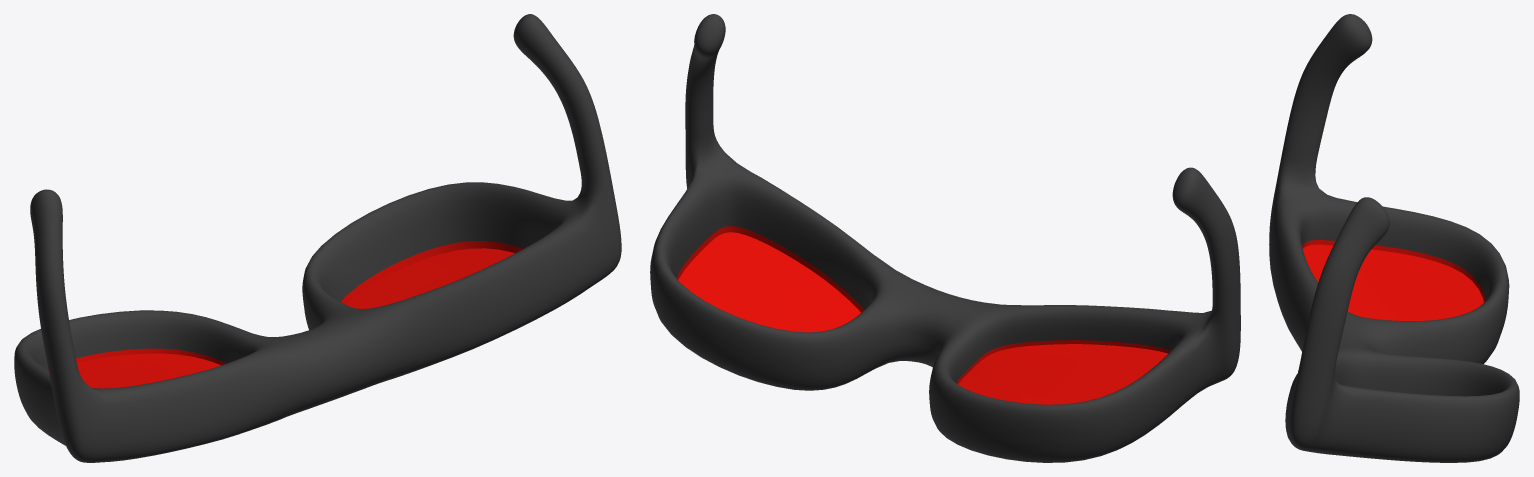
Rendered from Bago.fbx.
The picture shows the model from 3 angles, left to right: view 1: azimuth 30°, elevation 25°; view 2: azimuth 150°, elevation 25°; view 3: azimuth 270°, elevation 25°; orthographic projection. The views are drawn at different scales.
Visible parts, largest first — view 1: Cube; view 2: Cube; view 3: Cube.
Boxes of the visible parts, left/top/right/bottom form: Cube: left=14, top=14, right=621, bottom=462; Cube: left=650, top=14, right=1240, bottom=462; Cube: left=1269, top=14, right=1519, bottom=462.
Bounding box in the file's own units: 235 × 130 × 93.19.
